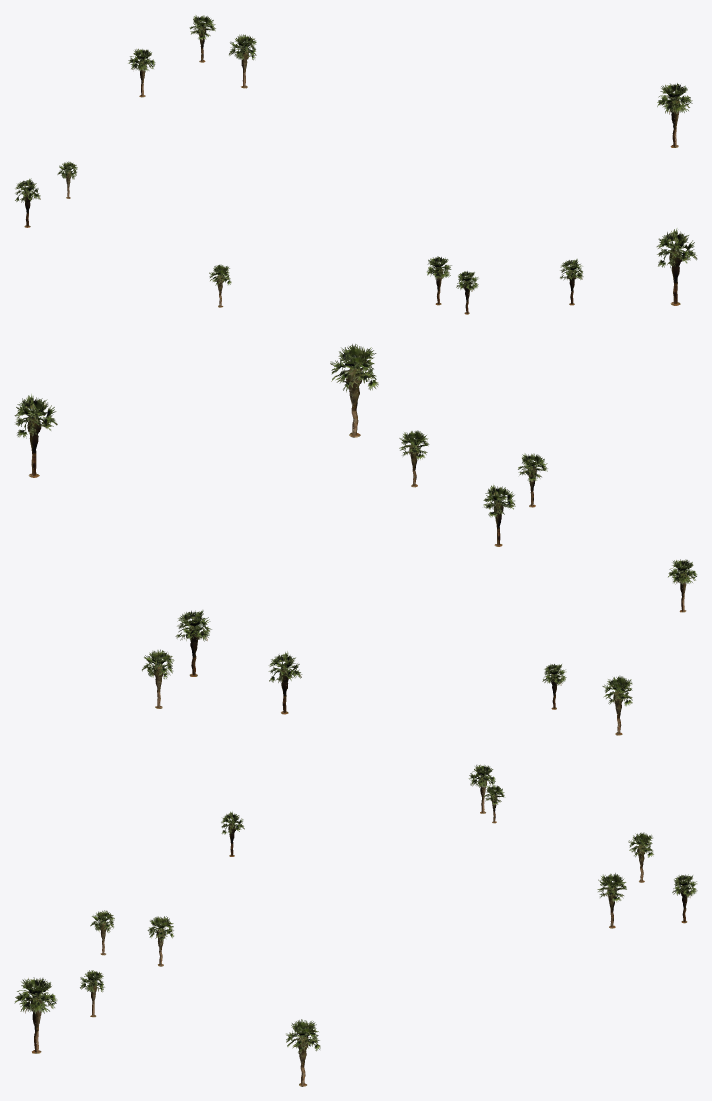
Rendered from Palmera03.glb.
3 views of the same model, one above another, from view 1: azimuth 30°, elevation 25°; view 2: azimuth 150°, elevation 25°; view 3: azimuth 270°, elevation 25° (orthographic). The views are drawn at different scales.
Parts seen in each view (by area): view 1: temp_mesh.ply.831; view 2: temp_mesh.ply.831; view 3: temp_mesh.ply.831.
Part boxes in pixels (bbox=[...]): temp_mesh.ply.831: bbox=[15, 14, 697, 314]; temp_mesh.ply.831: bbox=[14, 344, 697, 735]; temp_mesh.ply.831: bbox=[14, 764, 697, 1086].
Size of the model in its own units: 111 by 18.31 by 110.
Materials: 1 (1 with a texture image).
